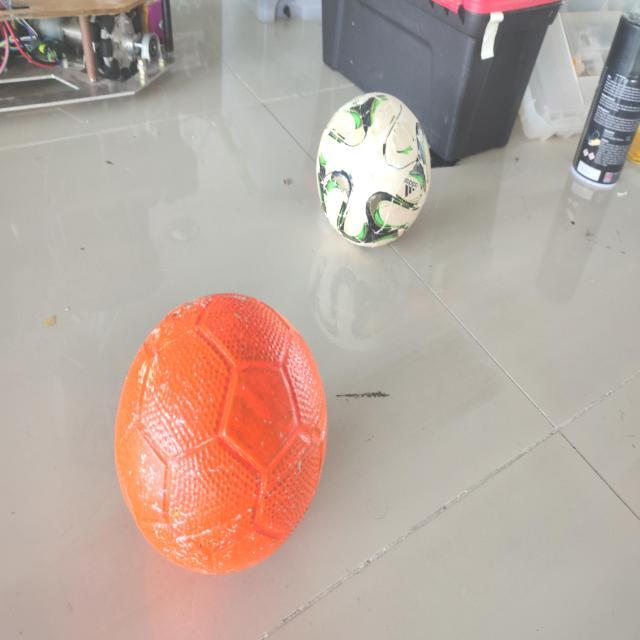bola: (105, 277, 339, 582)
